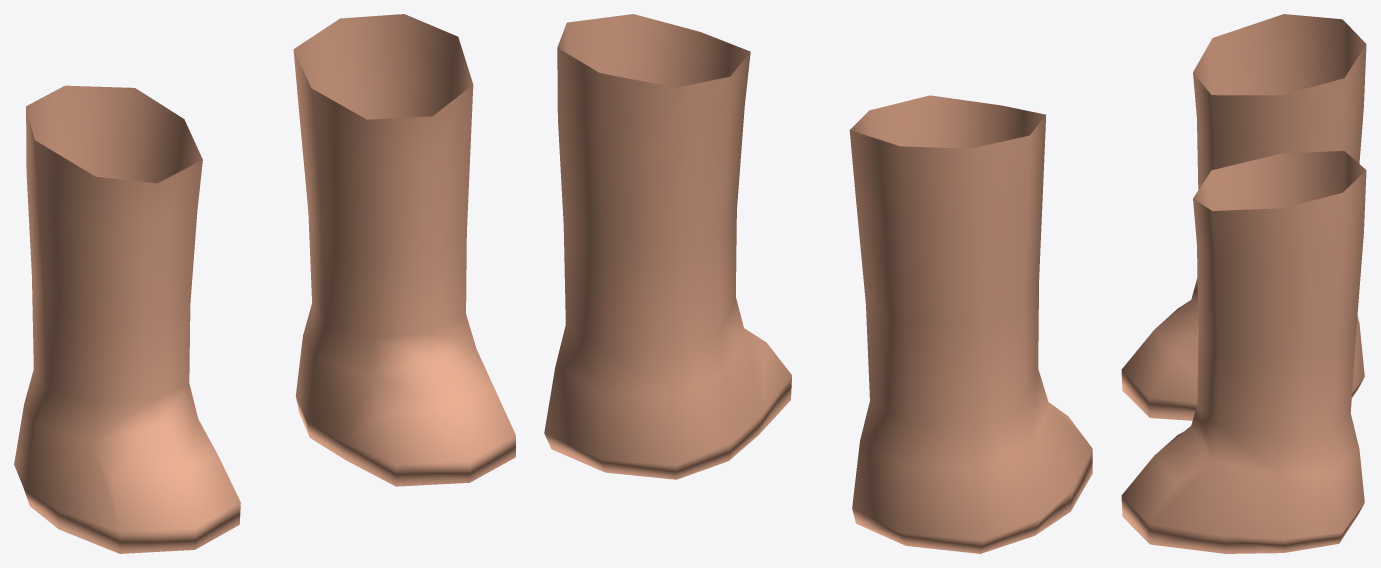
File: Body_Yellow_LegA_1.fbx
The picture shows the model from 3 angles, left to right: view 1: azimuth 30°, elevation 25°; view 2: azimuth 150°, elevation 25°; view 3: azimuth 270°, elevation 25°; orthographic projection. The views are drawn at different scales.
Parts seen in each view (by area): view 1: Body_Yellow_LegA_1; view 2: Body_Yellow_LegA_1; view 3: Body_Yellow_LegA_1.
Boxes of the visible parts, x1,y1,x2,y2 form: Body_Yellow_LegA_1: [14, 14, 515, 553]; Body_Yellow_LegA_1: [544, 14, 1092, 553]; Body_Yellow_LegA_1: [1121, 14, 1366, 553].
Bounding box in the file's own units: 32.81 × 26.18 × 16.71.
